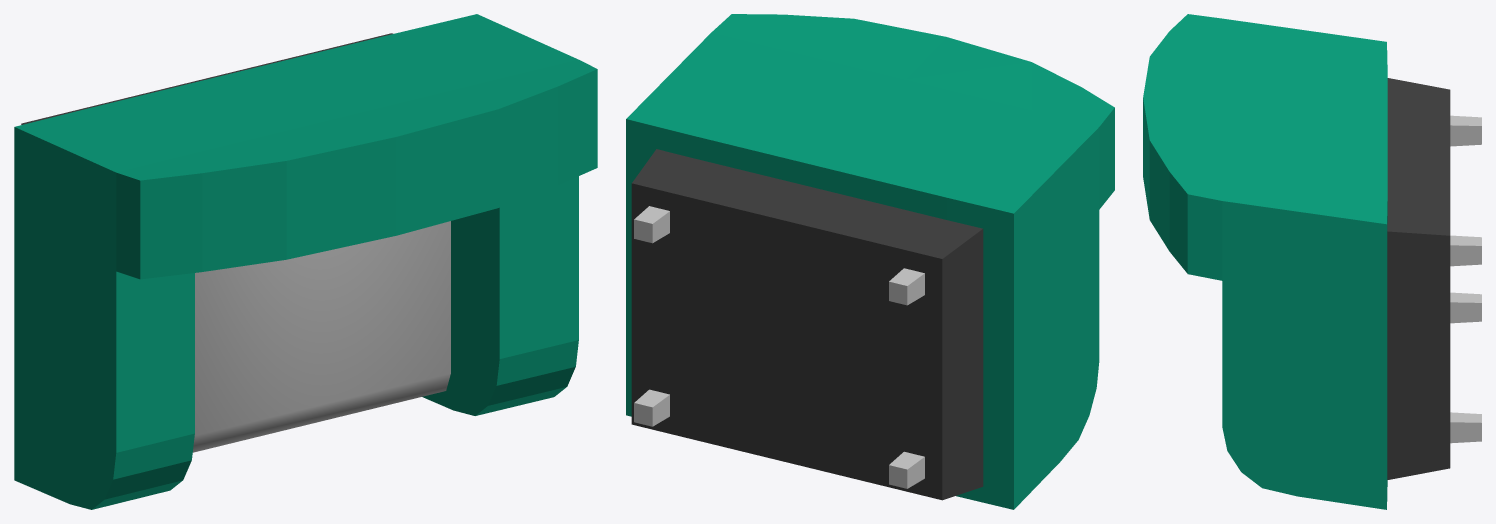
The model's file is Sofa_1_Alt.obj.
The picture shows the model from 3 angles, left to right: view 1: azimuth 30°, elevation 25°; view 2: azimuth 150°, elevation 25°; view 3: azimuth 270°, elevation 25°; orthographic projection. The views are drawn at different scales.
Visible parts, largest first — view 1: Sofa_1_Alt; view 2: Sofa_1_Alt; view 3: Sofa_1_Alt.
Boxes of the visible parts, box(x1,y1,x2,y2) form: Sofa_1_Alt: box(14, 14, 597, 509); Sofa_1_Alt: box(626, 14, 1114, 509); Sofa_1_Alt: box(1143, 14, 1481, 509).
Bounding box in the file's own units: 1.15 × 0.9422 × 0.9005.
